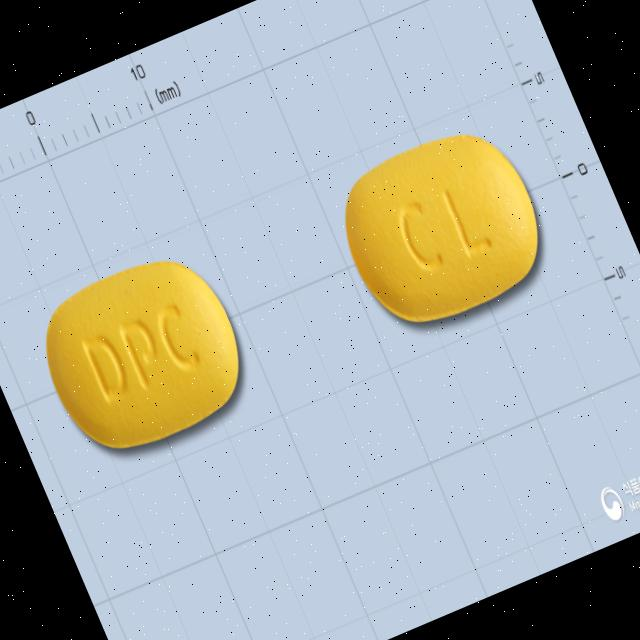Cefac Cap: (24, 238, 265, 471), (325, 115, 562, 342)
